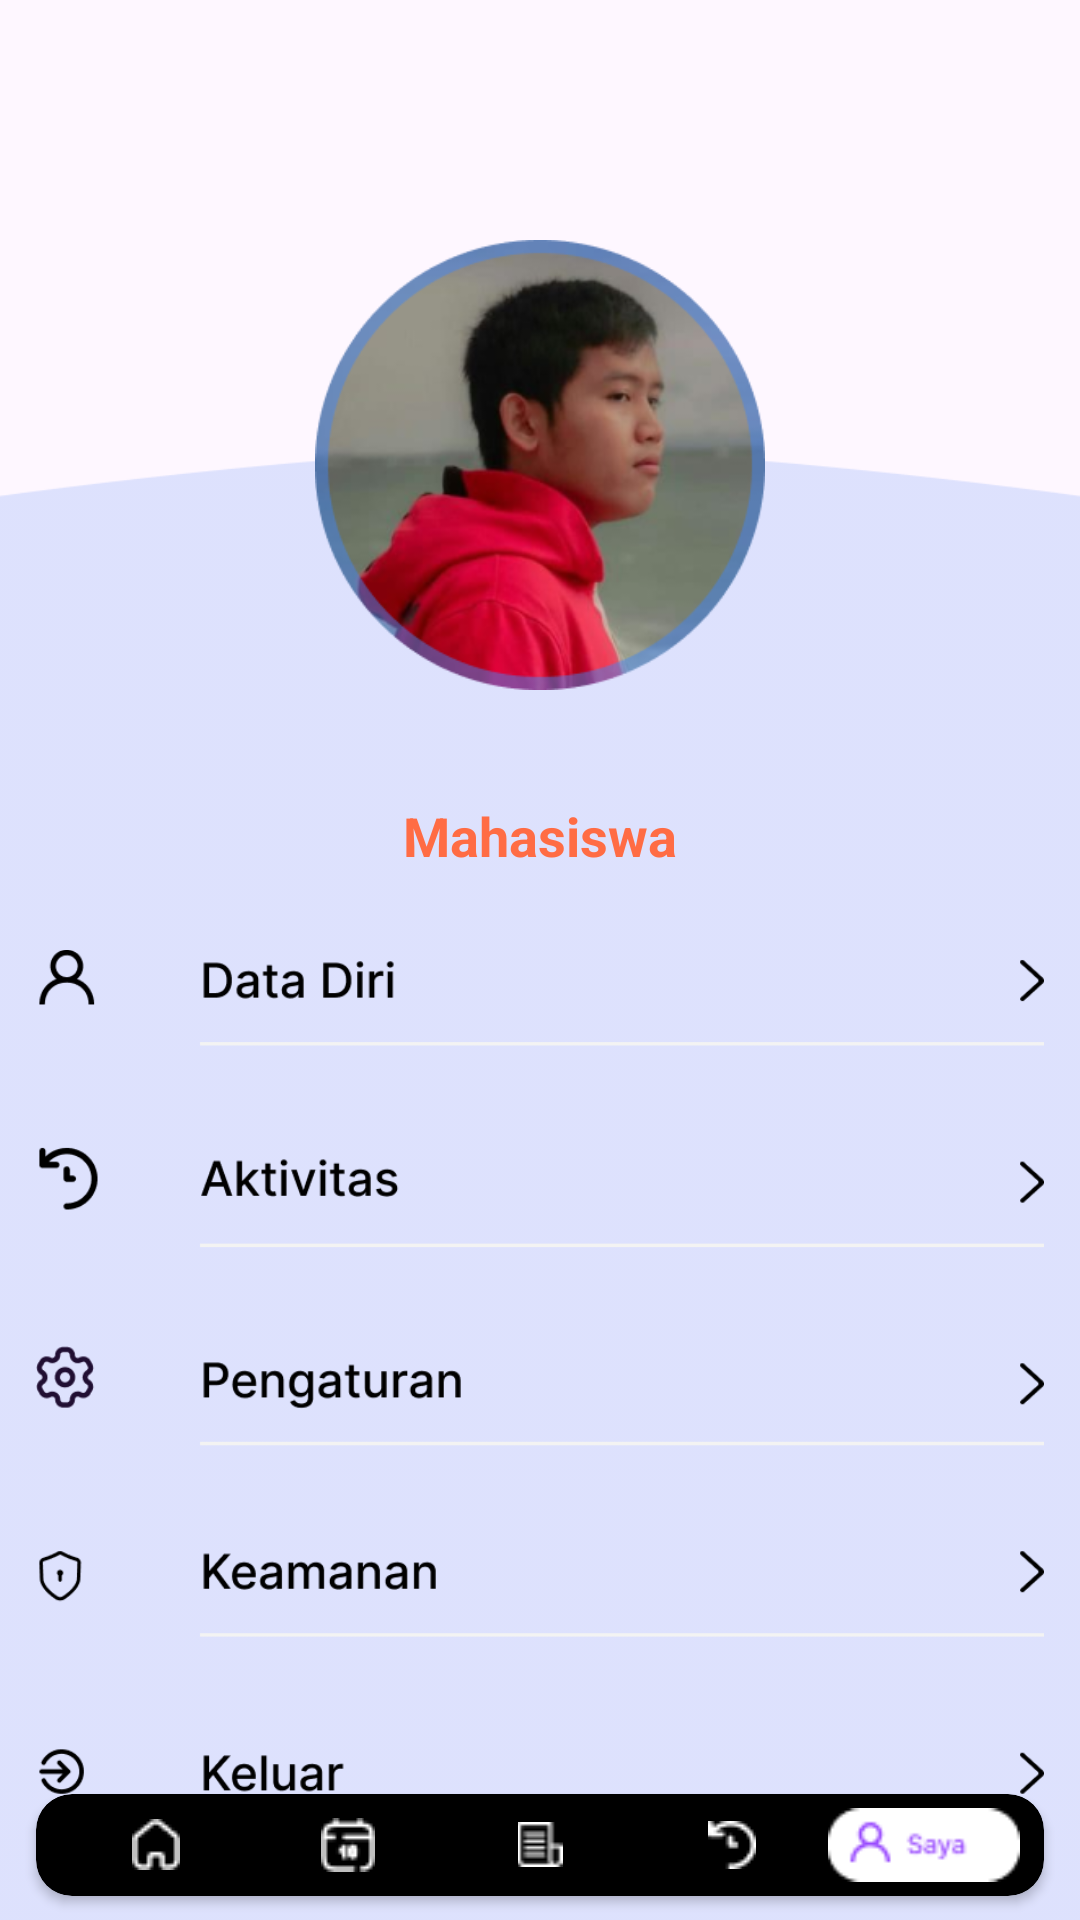

Where to tap for icons on this 1080 x 1920 app screen, as (x=x, y=y):
beranda off: (x=156, y=1844)
history off: (x=732, y=1845)
kalender off: (x=348, y=1845)
ruangan off: (x=540, y=1844)
